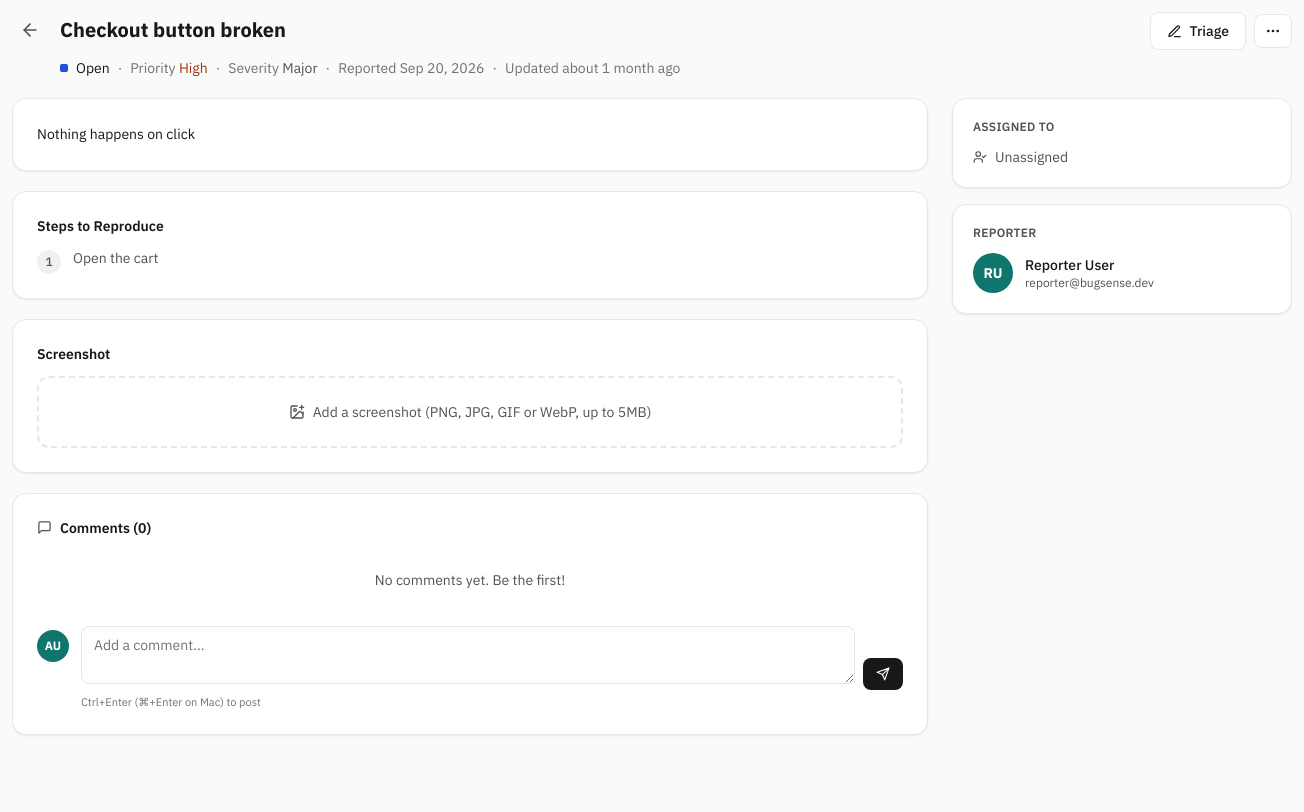
Test: BugDetail layout › keeps Triage inline and moves the rest, Delete included, into More actions
The image size is (1304, 812).
Expected: the heading "Checkout button broken" is shown, [60,16,286,43]
Expected: the button "Triage" is shown, [1150,12,1246,50]
Click the button named "More actions".
click(1273, 31)  # box [1254,14,1292,48]
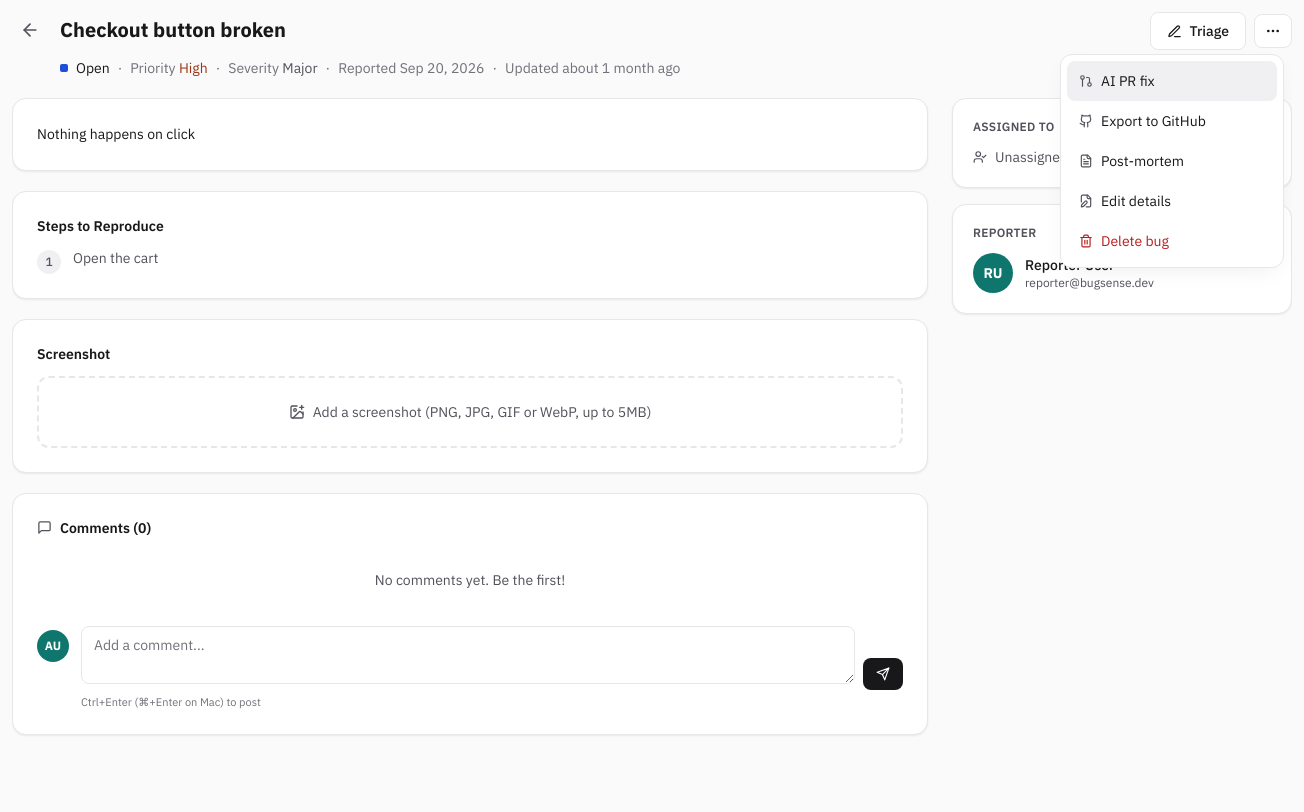
Now the menu items read "AI PR fix", "Export to GitHub", "Post-mortem", "Edit details", "Delete bug", in this order, box [1067,61,1277,101]; [1067,101,1277,141]; [1067,141,1277,181]; [1067,181,1277,221]; [1067,221,1277,261]
Press Escape
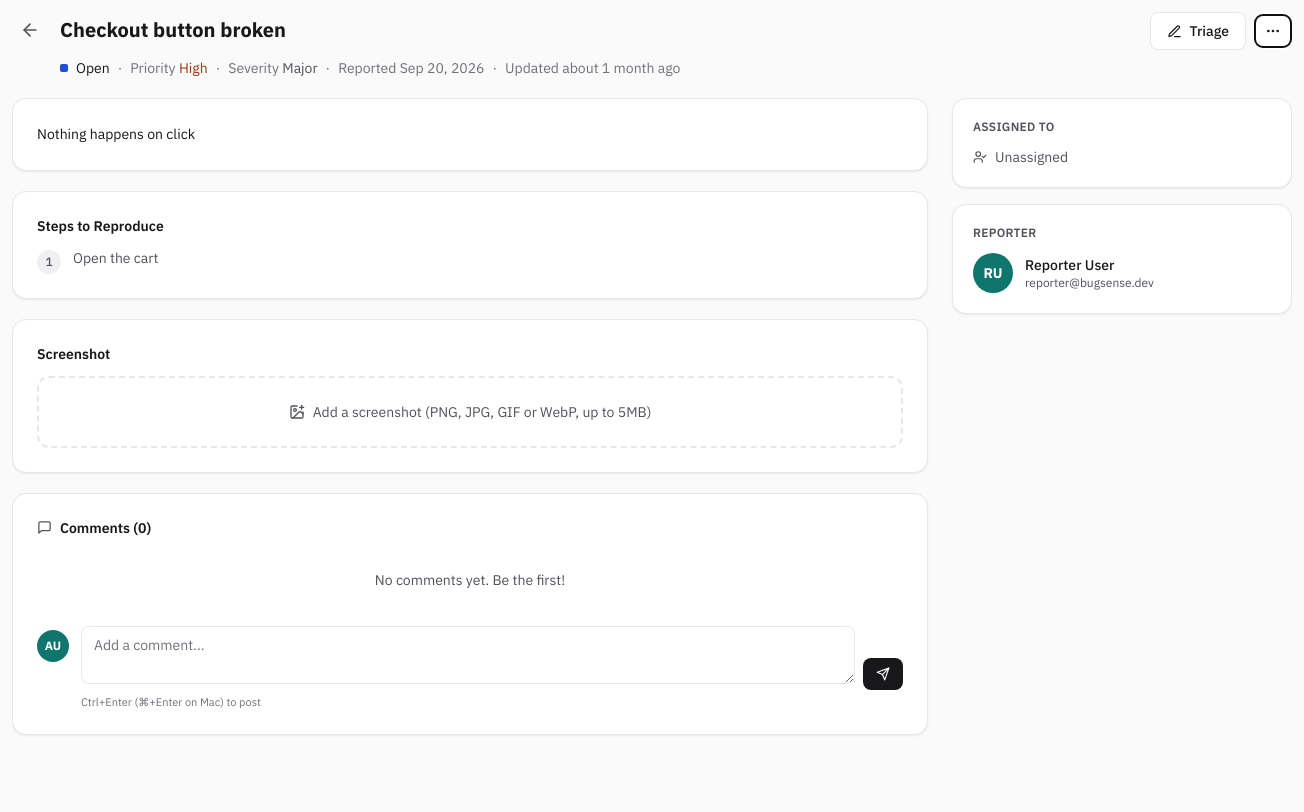
Now the menu is gone
